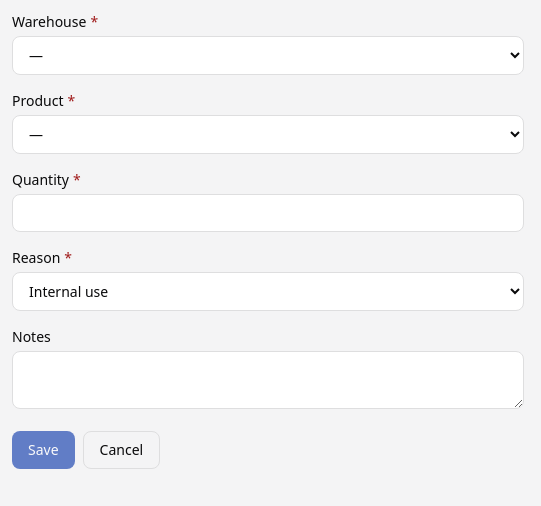
Test case: IssueForm › allows submitting a quantity within what's available
Select "Main" in the dropdown labelled "Warehouse" at (268, 56), box top-left (12, 36), bottom-right (524, 75)
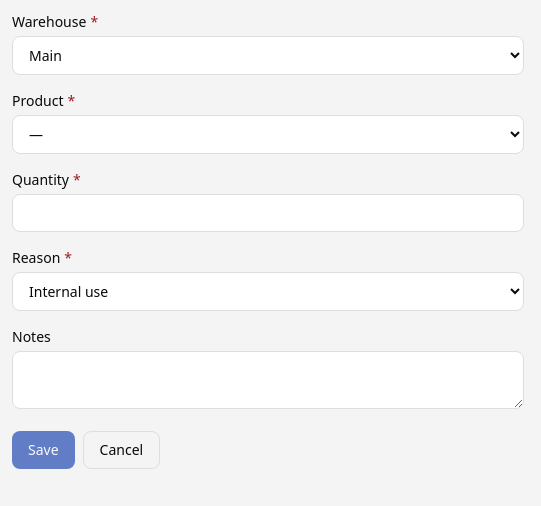
Select "Product 1" in the dropdown labelled "Product" at (268, 134), box top-left (12, 115), bottom-right (524, 154)
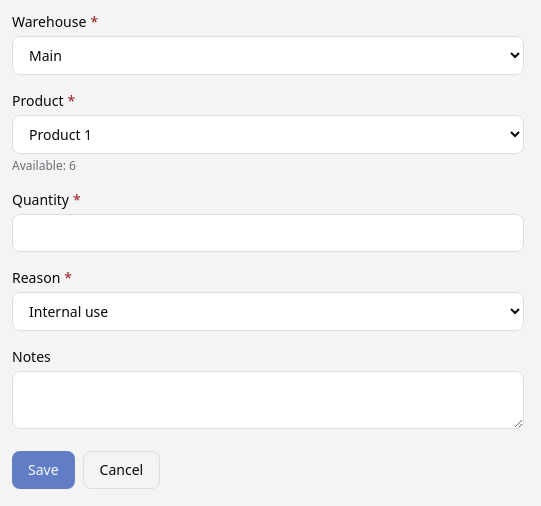
Type "6" into the number field labelled "Quantity" at (268, 233), box top-left (12, 214), bottom-right (524, 252)
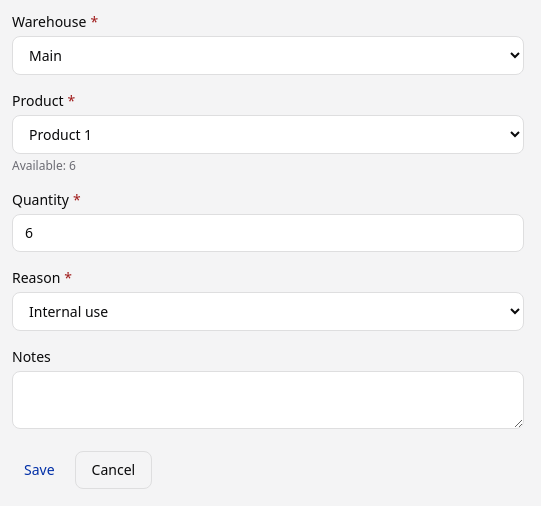
Result: the button "Save" is enabled at top-left (12, 451), bottom-right (67, 489)
